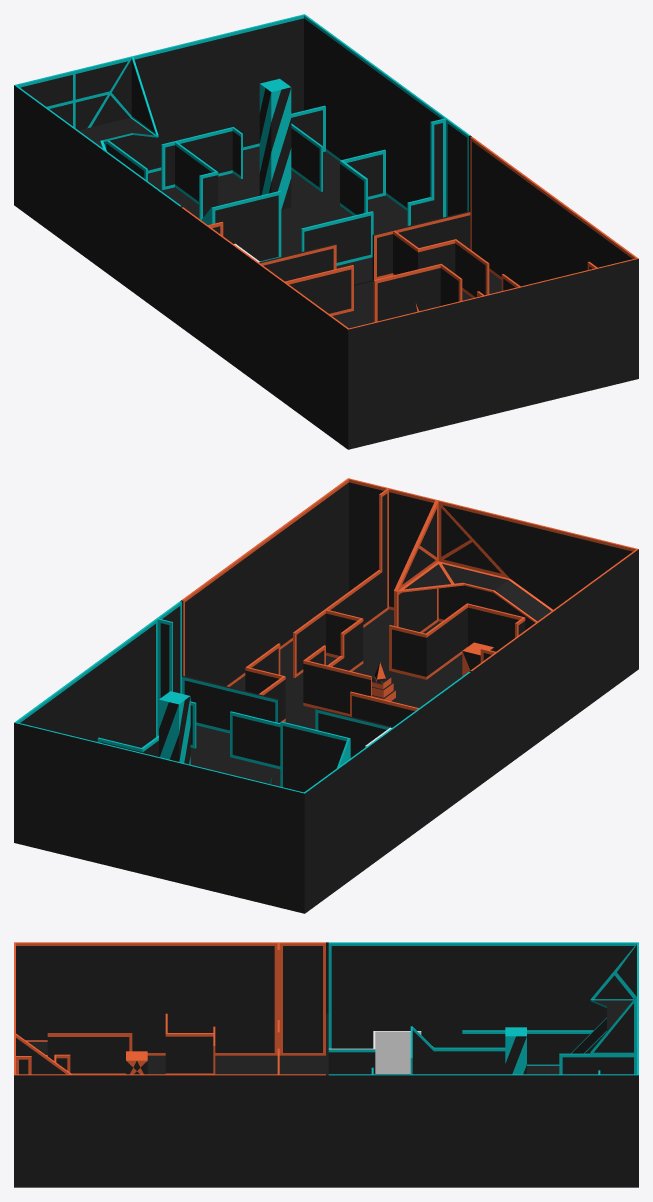
3 views of the same model, one above another, from view 1: azimuth 30°, elevation 25°; view 2: azimuth 150°, elevation 25°; view 3: azimuth 270°, elevation 25° (orthographic). The views are drawn at different scales.
Parts seen in each view (by area): view 1: Model; view 2: Model; view 3: Model.
Boxes of the visible parts, x1,y1,x2,y2 form: Model: [14, 14, 638, 449]; Model: [14, 478, 638, 913]; Model: [14, 942, 638, 1187].
Size of the model in its own units: 16.21 by 6.4 by 32.26.
